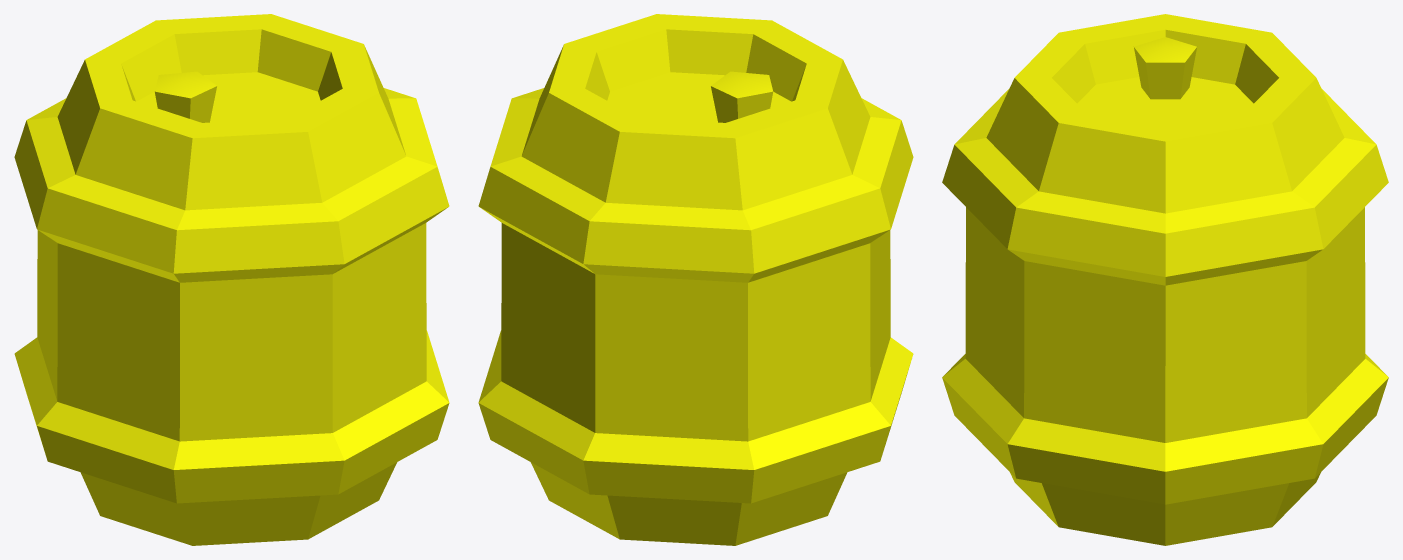
File: kaykit-barrel-small.glb
The picture shows the model from 3 angles, left to right: view 1: azimuth 30°, elevation 25°; view 2: azimuth 150°, elevation 25°; view 3: azimuth 270°, elevation 25°; orthographic projection.
Visible parts, largest first — view 1: barrel_small; view 2: barrel_small; view 3: barrel_small.
Boxes of the visible parts, x1,y1,x2,y2 form: barrel_small: (14,14,449,545); barrel_small: (478,14,913,545); barrel_small: (942,14,1388,545).
Bounding box in the file's own units: 1 × 1.02 × 1.
